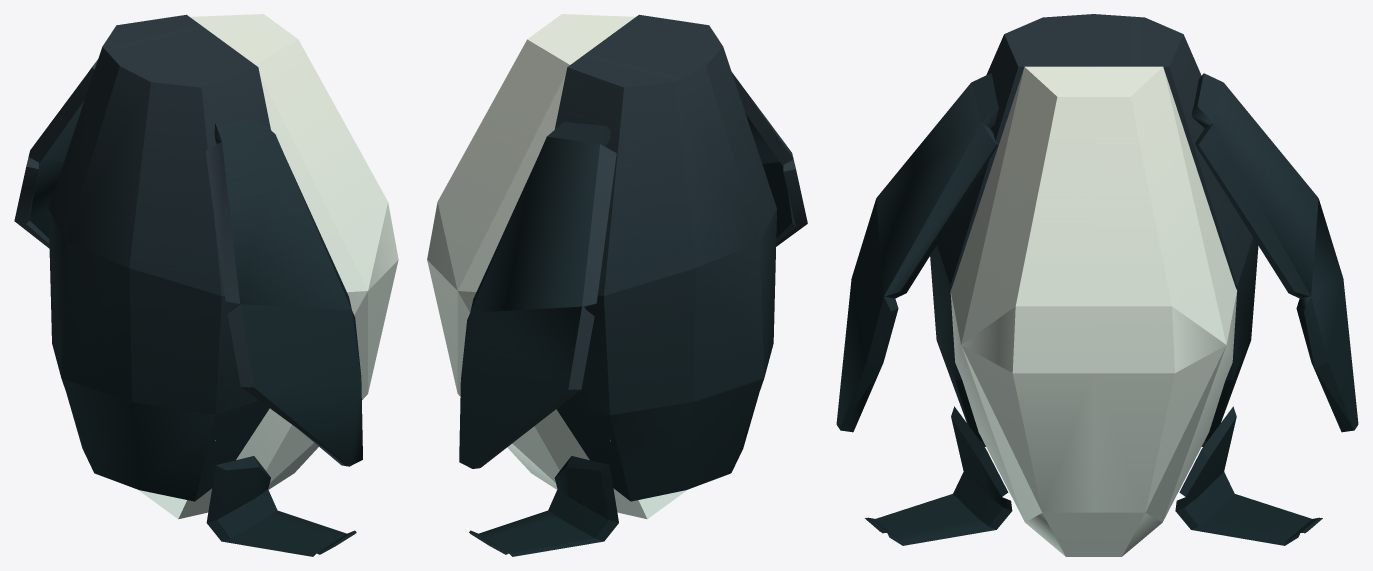
File: SM_Pinguin_Body.fbx
3 views of the same model, side by side, from view 1: azimuth 30°, elevation 25°; view 2: azimuth 150°, elevation 25°; view 3: azimuth 270°, elevation 25° (orthographic). The views are drawn at different scales.
Visible parts, largest first — view 1: SM_Pinguin_Body; view 2: SM_Pinguin_Body; view 3: SM_Pinguin_Body.
Boxes of the visible parts, x1,y1,x2,y2 form: SM_Pinguin_Body: (14, 14, 398, 556); SM_Pinguin_Body: (427, 14, 807, 556); SM_Pinguin_Body: (836, 14, 1358, 556).
Bounding box in the file's own units: 16.87 × 23.58 × 24.25.
